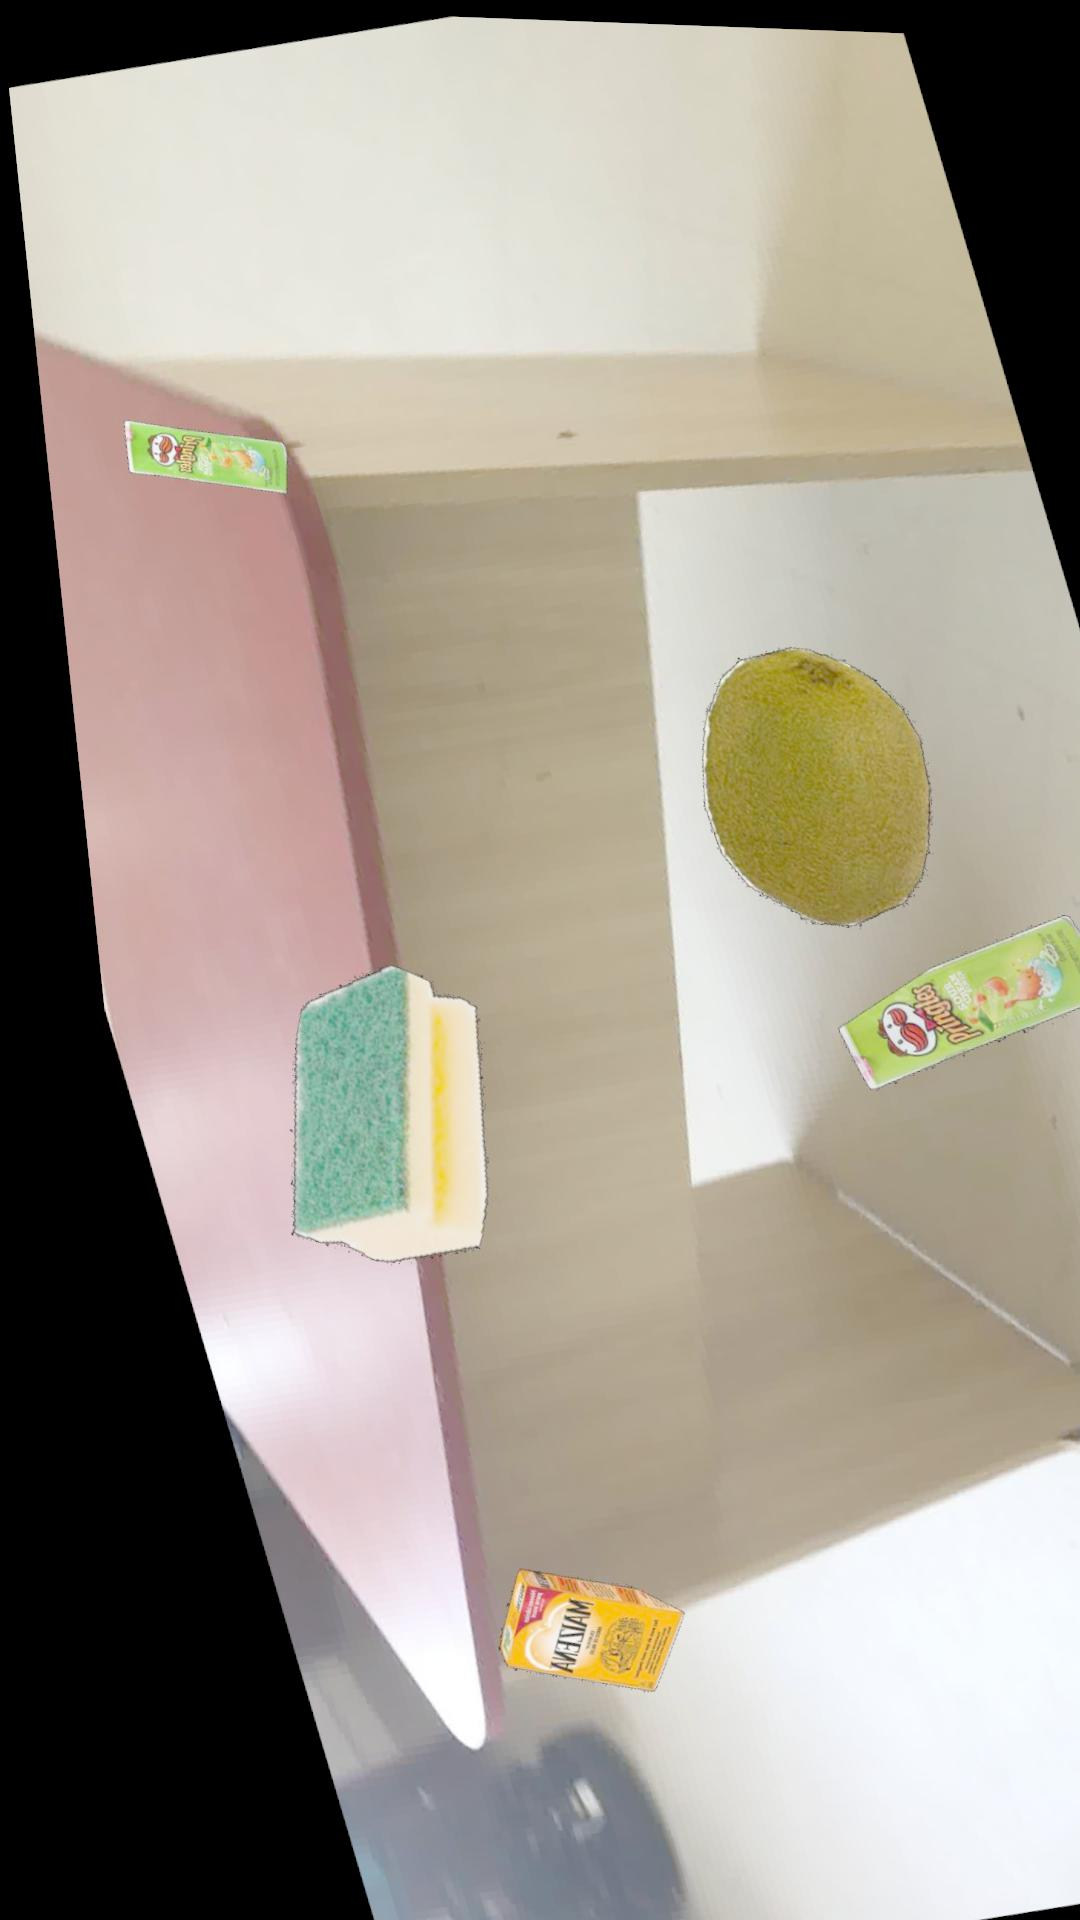kiwi: (687, 642, 915, 923)
pringles: (818, 909, 1080, 1084), (116, 419, 278, 492)
sponge: (265, 963, 463, 1261)
